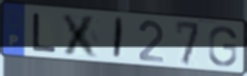2: (137, 18, 167, 64)
7: (174, 19, 201, 68)
G: (207, 25, 239, 68)
I: (111, 16, 126, 61)
L: (31, 11, 58, 54)
X: (61, 12, 101, 60)
